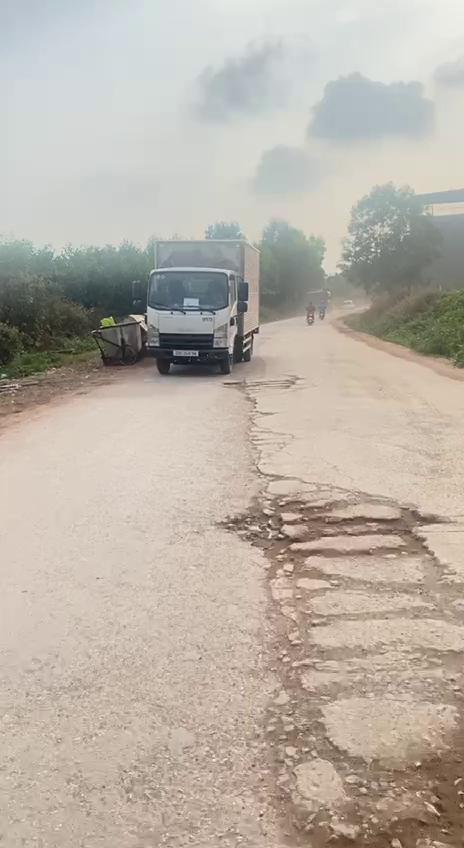pothole: (211, 482, 464, 666), (240, 661, 464, 848)
